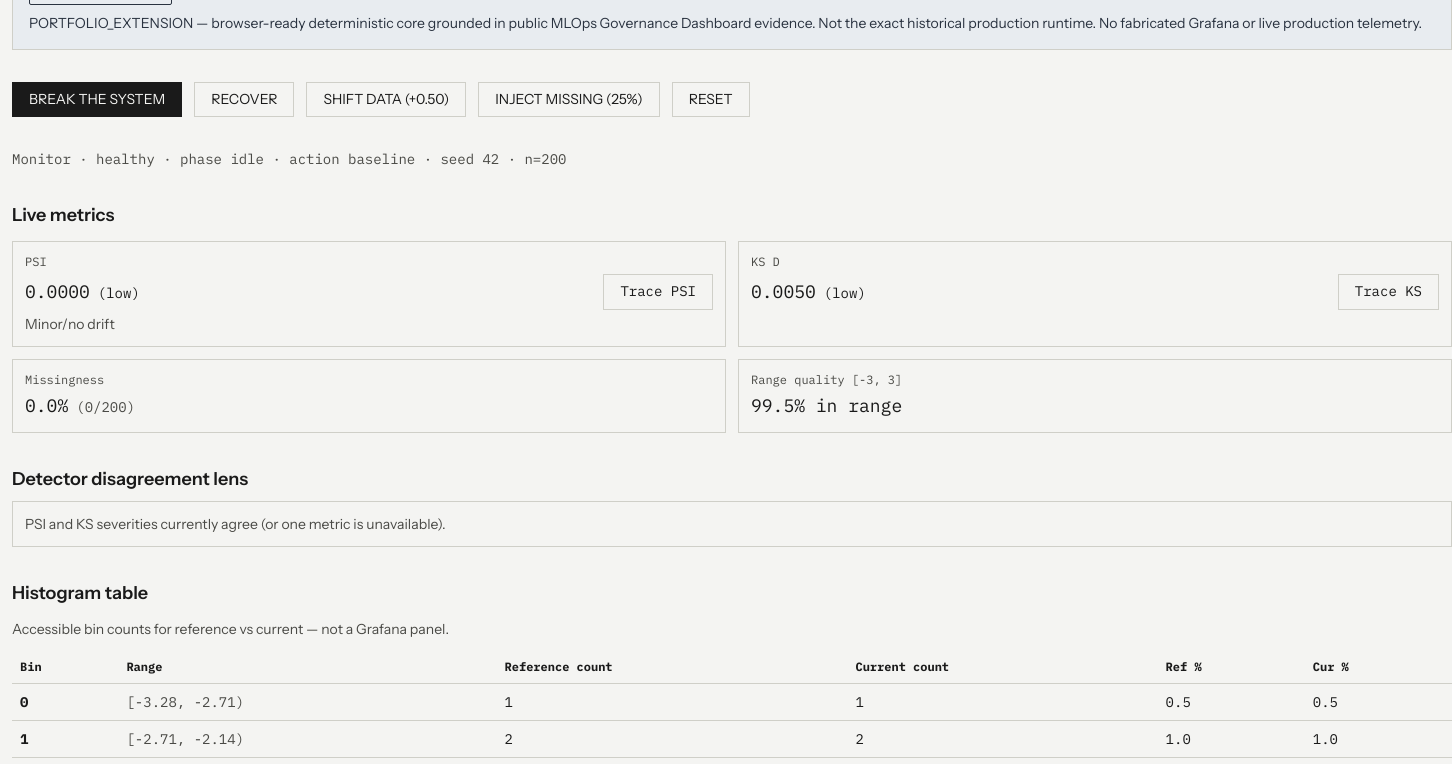
Test: MlopsLab (M6+M7) › BREAK THE SYSTEM opens Watch Anish Debug and a labeled event trace
The width and height of the screenshot is (1452, 764).
Click the button "BREAK THE SYSTEM".
click(97, 99)  # box [12,82,182,117]
(page scrolled)
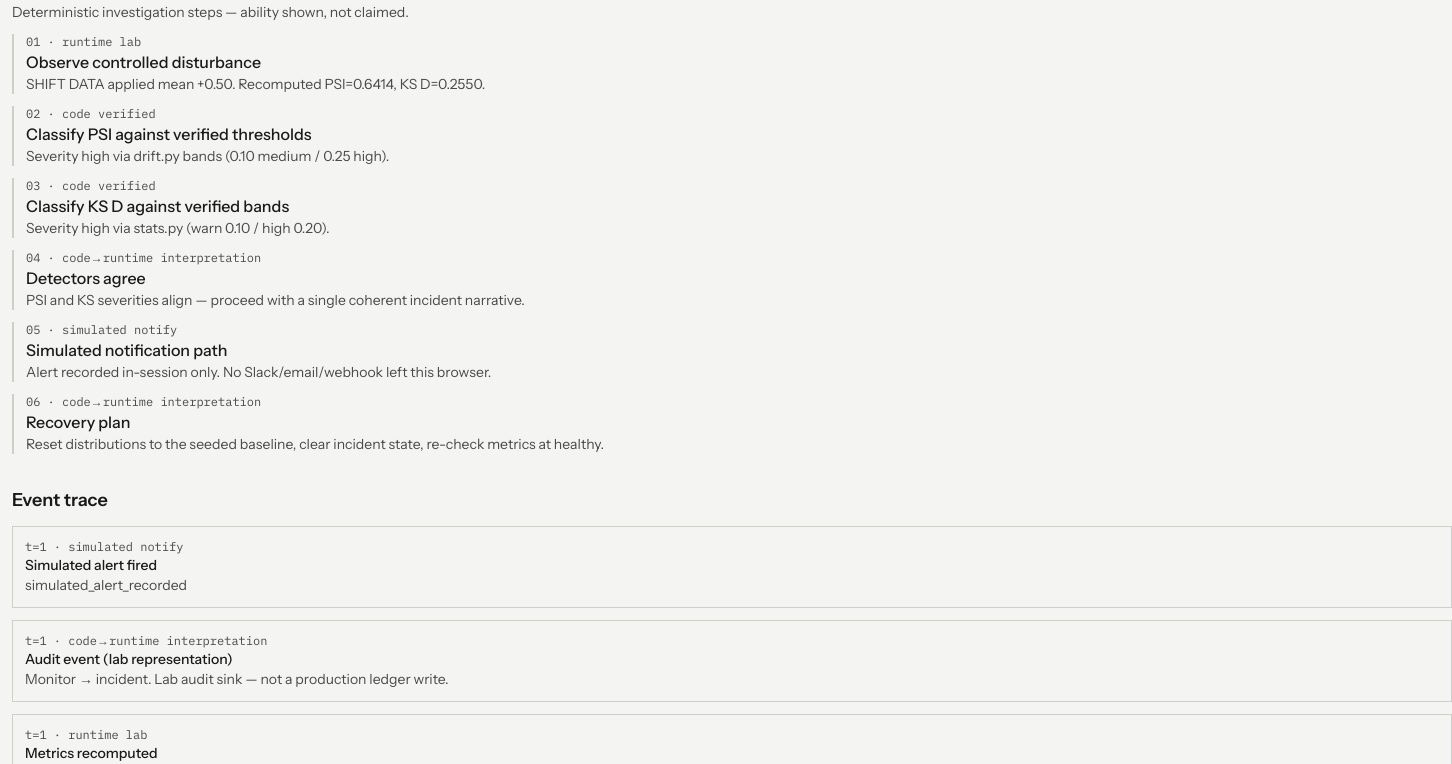
Now the heading "Event trace" is shown, box [12,489,108,511]
Now the text "05 · simulated notify" is shown, box [26,322,177,337]
Now the text "02 · code verified" is shown, box [26,106,156,121]
